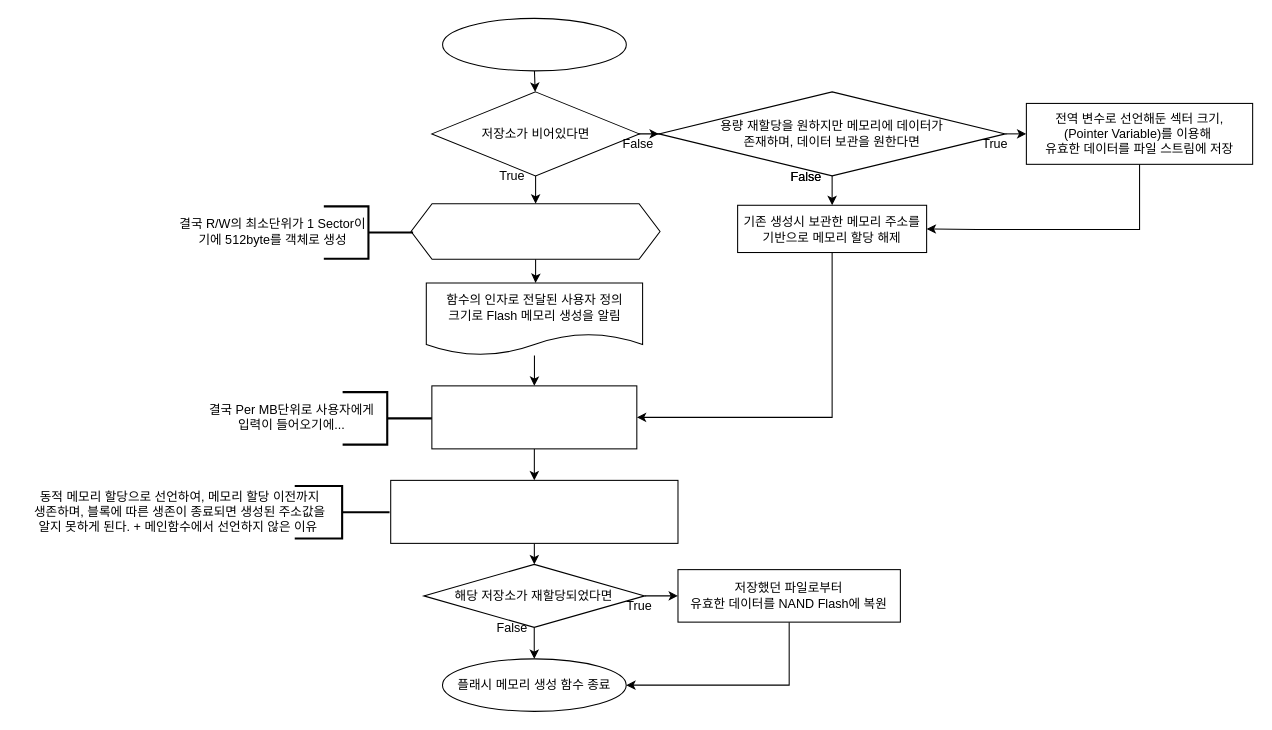
Image size: 1272x730. Some labels were removed from this diagram. Here are the shapes that lost their labels. From the top down, the centre of each, then its label:
At (x=534, y=44): "플래시 메모리 생성 함수 호출".
At (x=535, y=231): "(Flash Memory Type Pointer Variable) 선언".
At (x=534, y=417): "함수의 인자 값을 참조하여, 2048배수의 동적 배열을 할당".
At (x=534, y=511): "전역 변수로 선언한 (Flash Memory Type Pointer Variable)에 주소값 전달".
